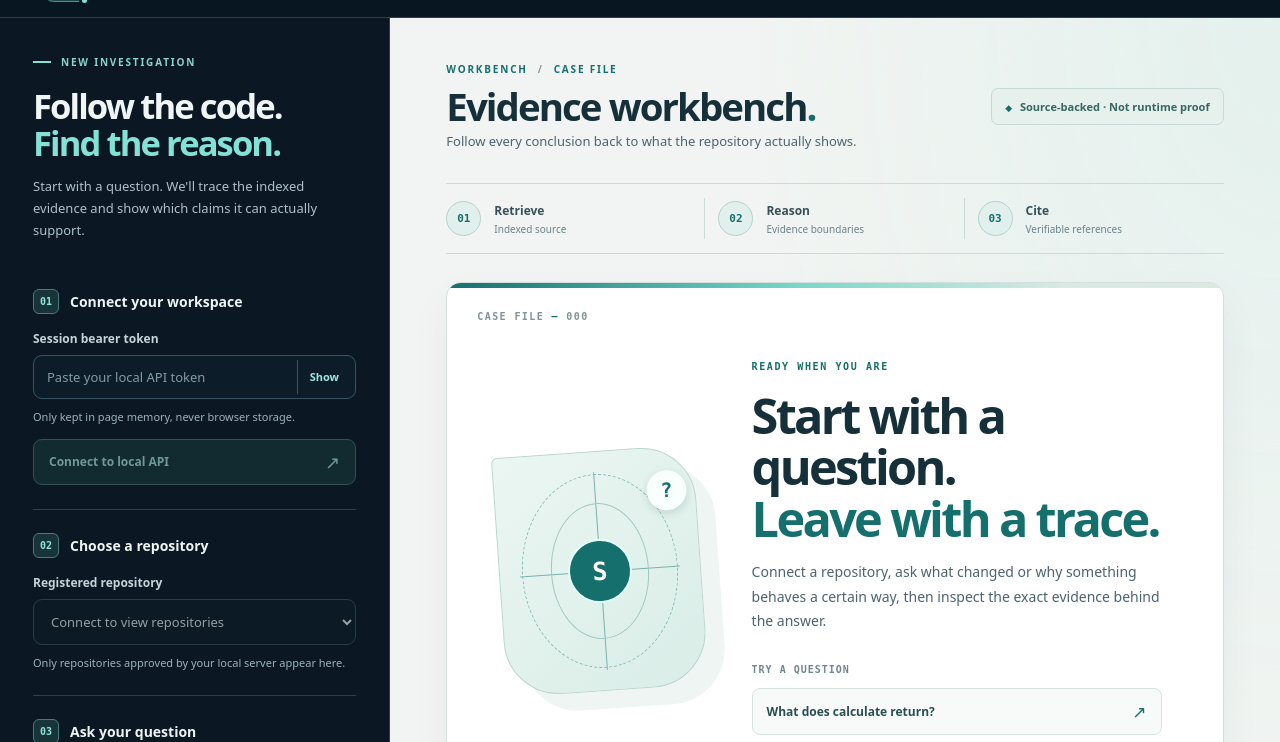
Scenario: local evidence workbench › preserves no source data when switching tokens
Type "test-local-token" into the password field labelled "Session bearer token" at (194, 377), box [33,355,356,399]
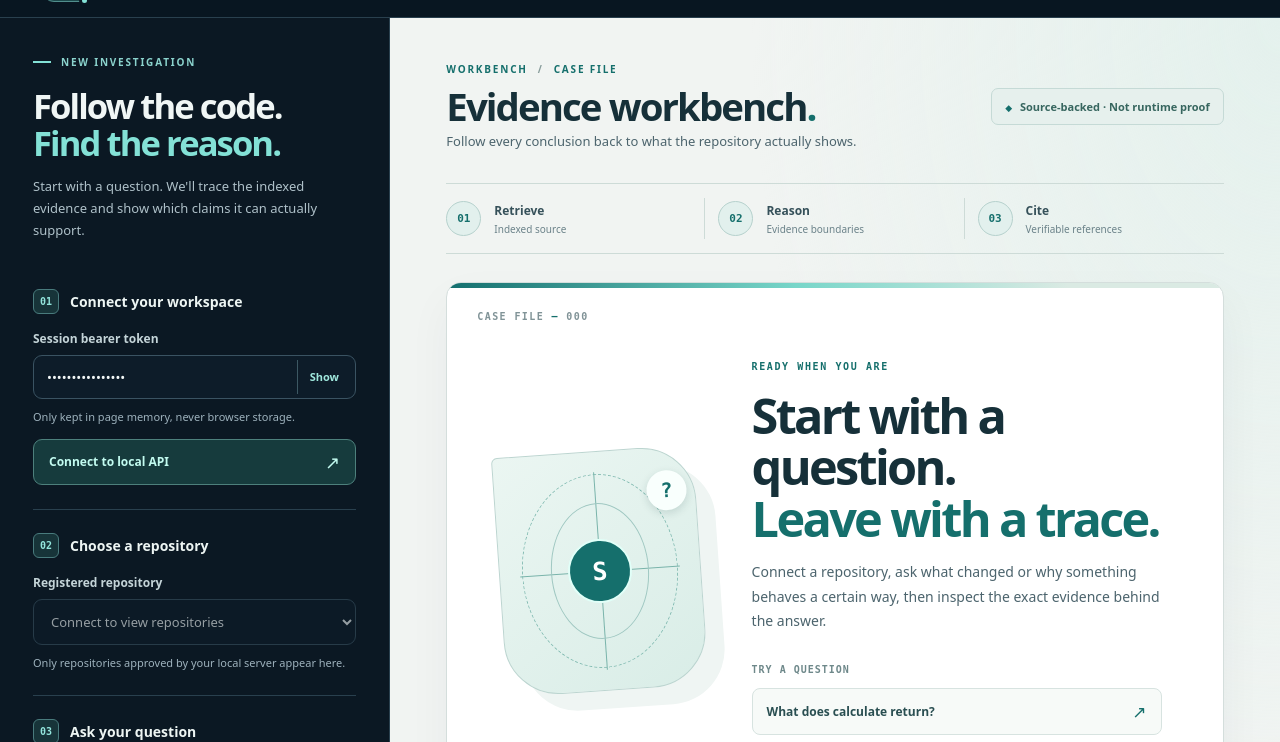
Click the button "Connect to local API" at (109, 462), box [33,439,356,485]
(page scrolled)
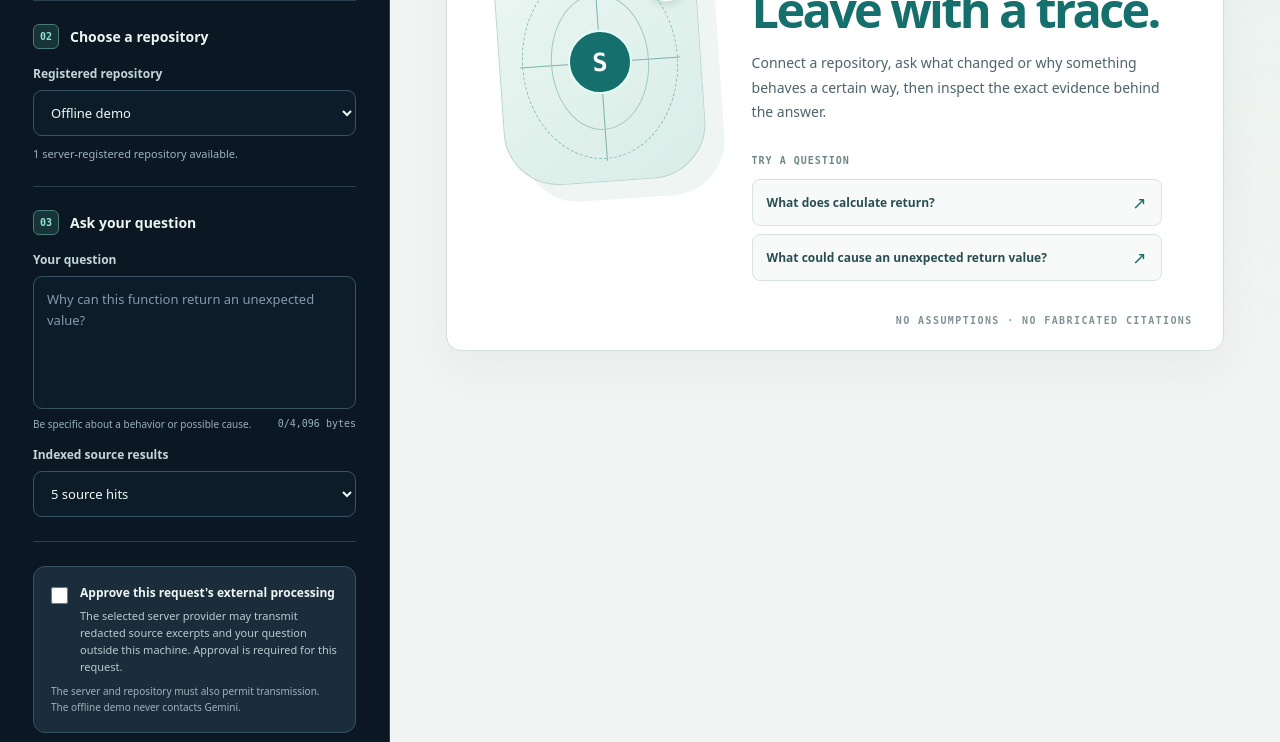
Type "What does the code return?" into the text box labelled "Your question" at (194, 343), box [33,276,356,409]
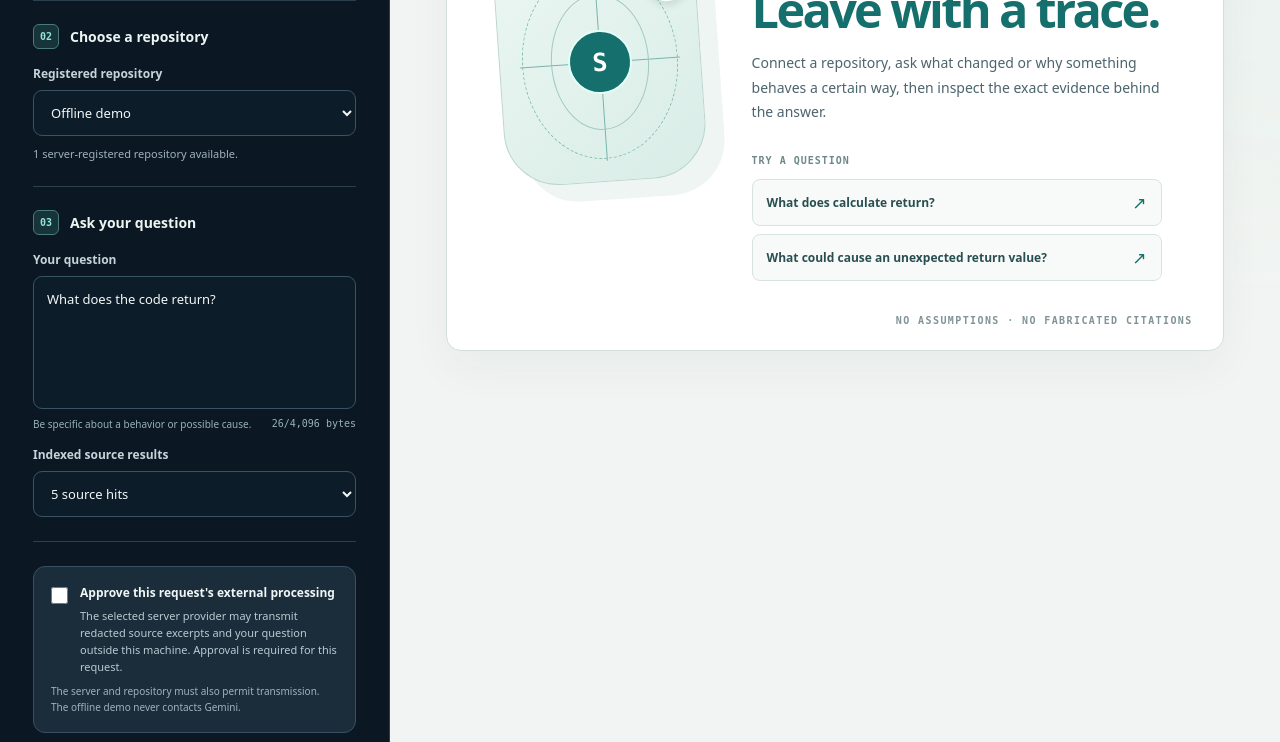
Click the checkbox named "Approve this request.s external processing" at (60, 595), box [51,587,68,604]
(page scrolled)
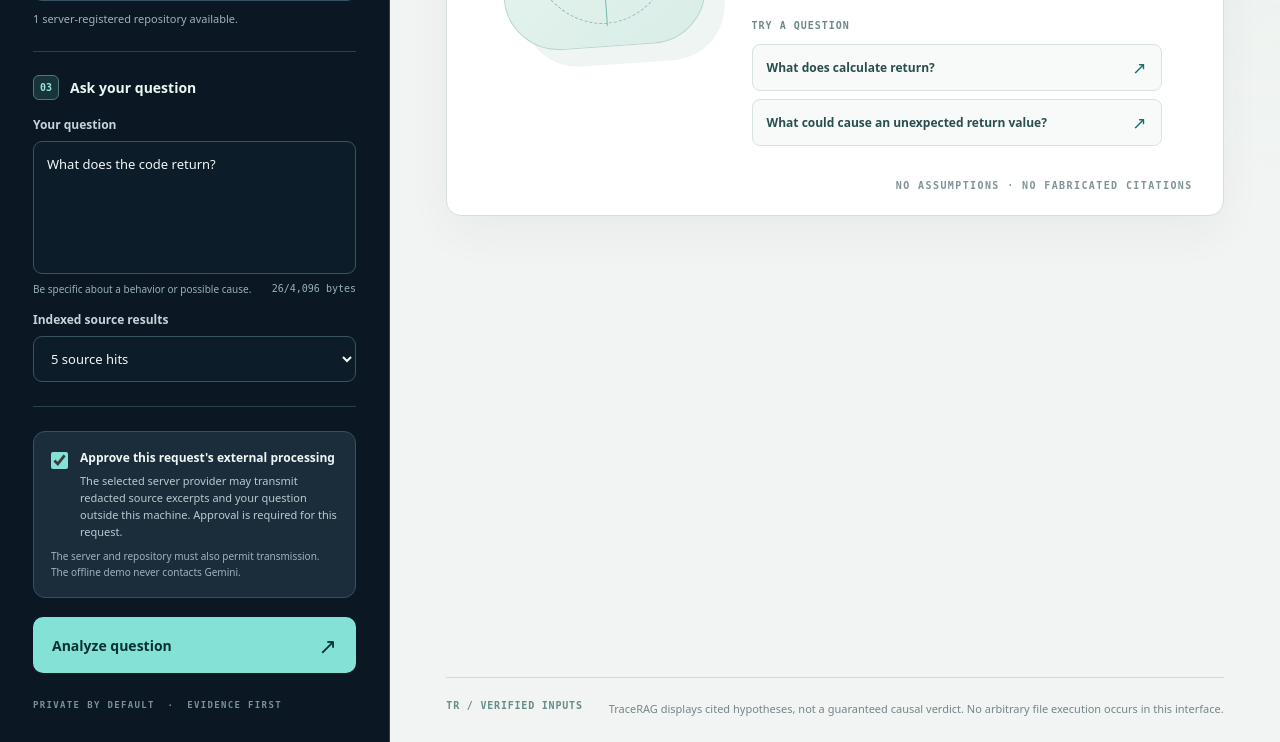
Click the button "Analyze question ↗" at (112, 645), box [33,617,356,673]
(page scrolled)
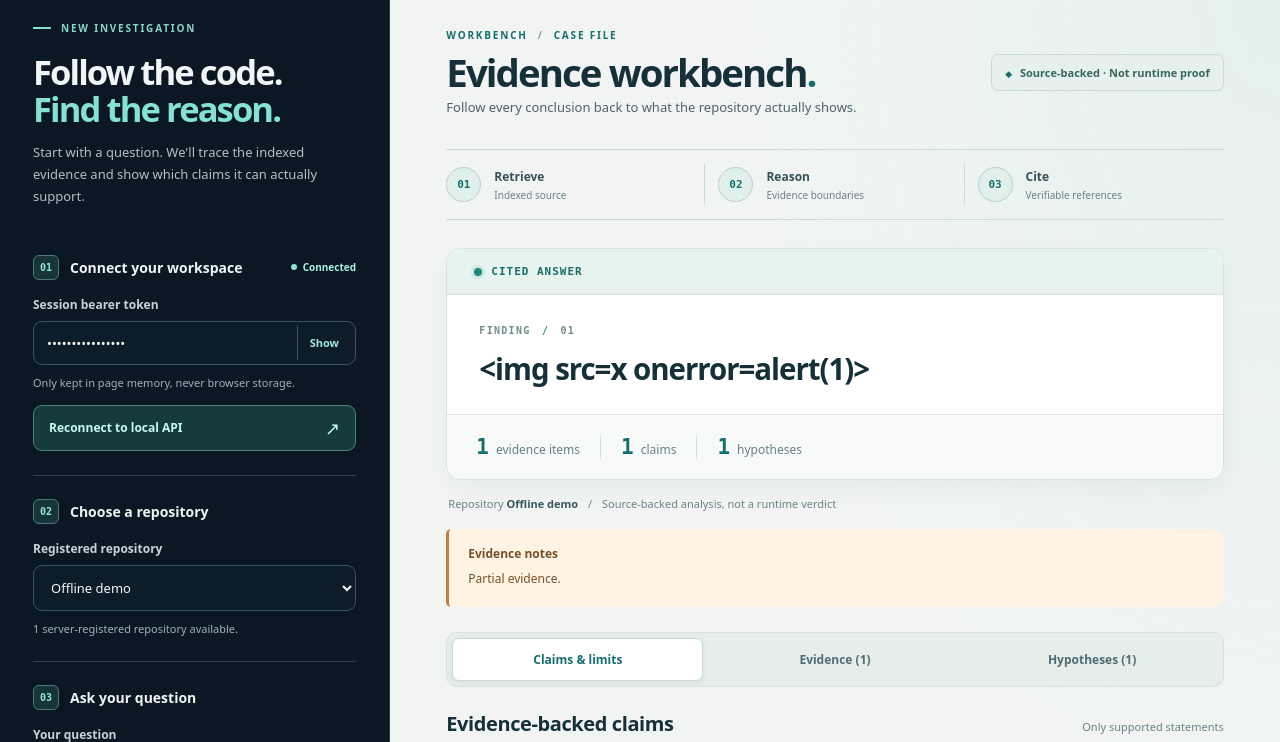
Now the tab "Claims & limits" is shown, box [452,638,703,681]
Type "other-secret-token" into the password field labelled "Session bearer token" at (194, 343), box [33,321,356,365]
(page scrolled)
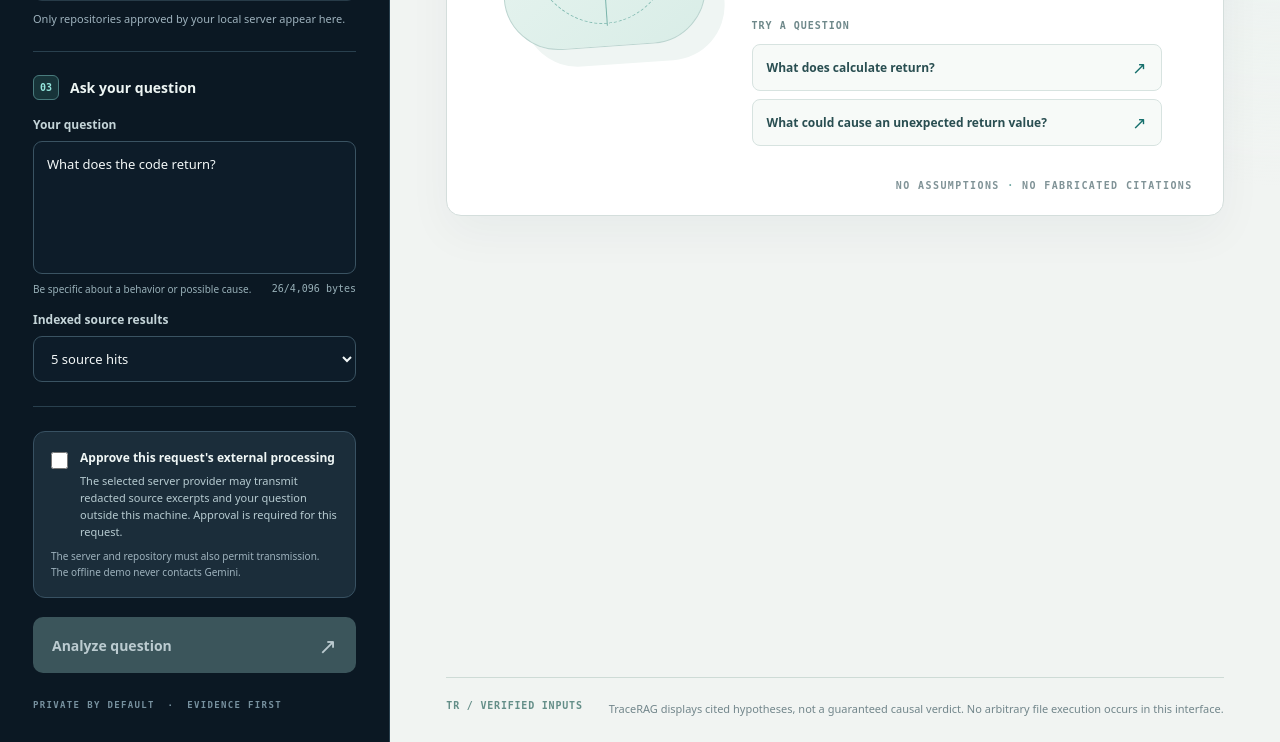
Now the heading "<img src=x onerror=alert(1)>" is gone
Now the button "Analyze question ↗" is disabled, box [33,617,356,673]
